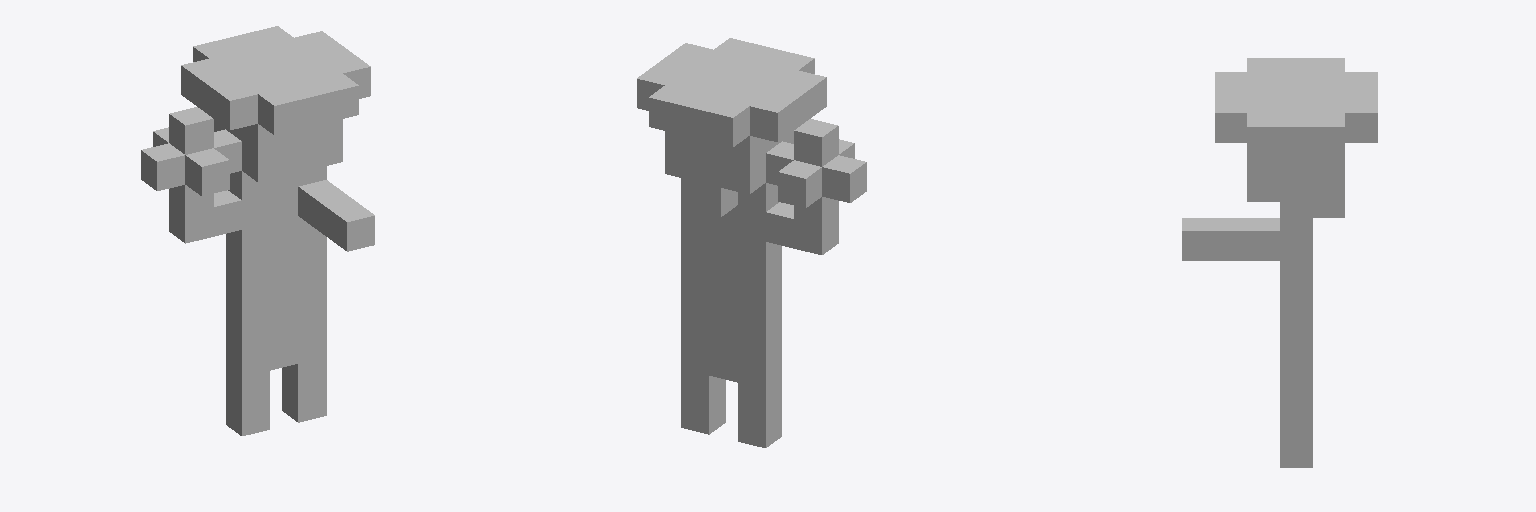
The model's file is Beach 1.obj.
The picture shows the model from 3 angles: view 1: azimuth 30°, elevation 25°; view 2: azimuth 150°, elevation 25°; view 3: azimuth 270°, elevation 25°; orthographic projection.
Bounding box in the file's own units: 7 × 12 × 6.